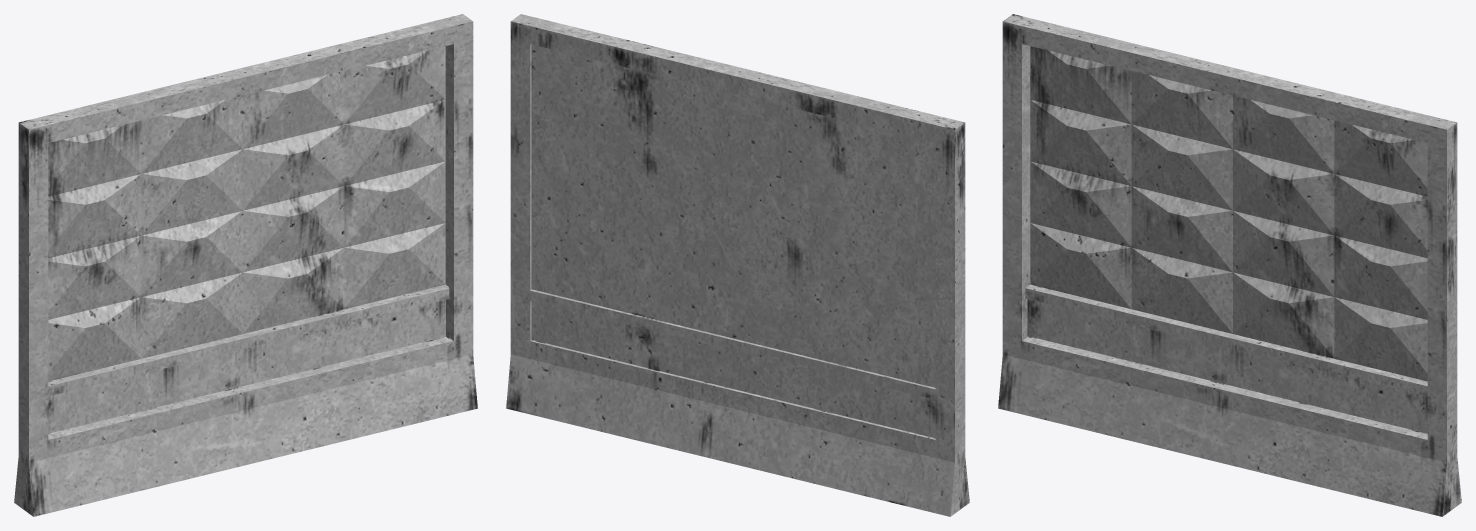
Rendered from zabor.fbx.
The picture shows the model from 3 angles, left to right: view 1: azimuth 30°, elevation 25°; view 2: azimuth 150°, elevation 25°; view 3: azimuth 330°, elevation 25°; orthographic projection.
Visible parts, largest first — view 1: Cube; view 2: Cube; view 3: Cube.
Part boxes in pixels (x1=…): Cube: x1=14, y1=14, x2=477, y2=516; Cube: x1=506, y1=14, x2=969, y2=516; Cube: x1=998, y1=14, x2=1461, y2=516.
Bounding box in the file's own units: 1794 × 1480 × 136.
1 material, 1 textured.
